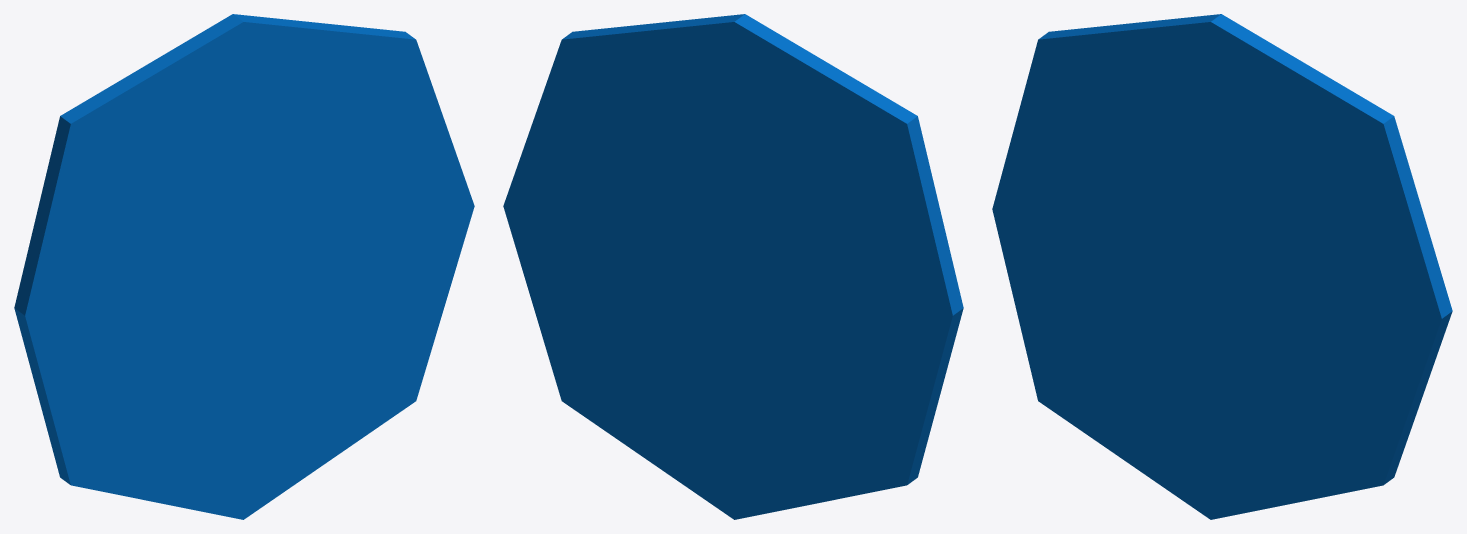
Rendered from boobleStick.obj.
3 renders of one model, left to right at view 1: azimuth 30°, elevation 25°; view 2: azimuth 150°, elevation 25°; view 3: azimuth 330°, elevation 25°, orthographic.
Parts seen in each view (by area): view 1: Cube.001; view 2: Cube.001; view 3: Cube.001.
Boxes of the visible parts, x1,y1,x2,y2 form: Cube.001: (14,14,474,519); Cube.001: (503,14,963,519); Cube.001: (992,14,1452,519).
Bounding box in the file's own units: 0.4994 × 0.5286 × 0.0208.
